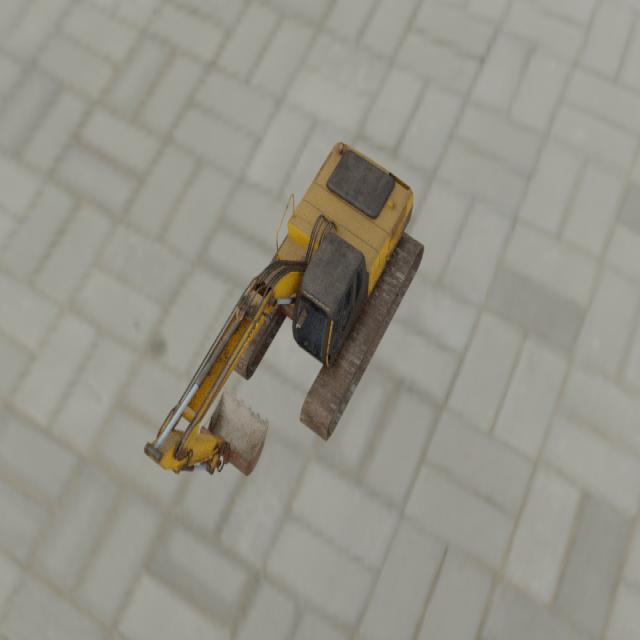excavator: (143, 140, 424, 476)
